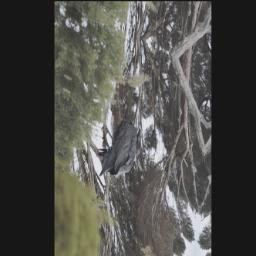Crow: (94, 105, 144, 198)
